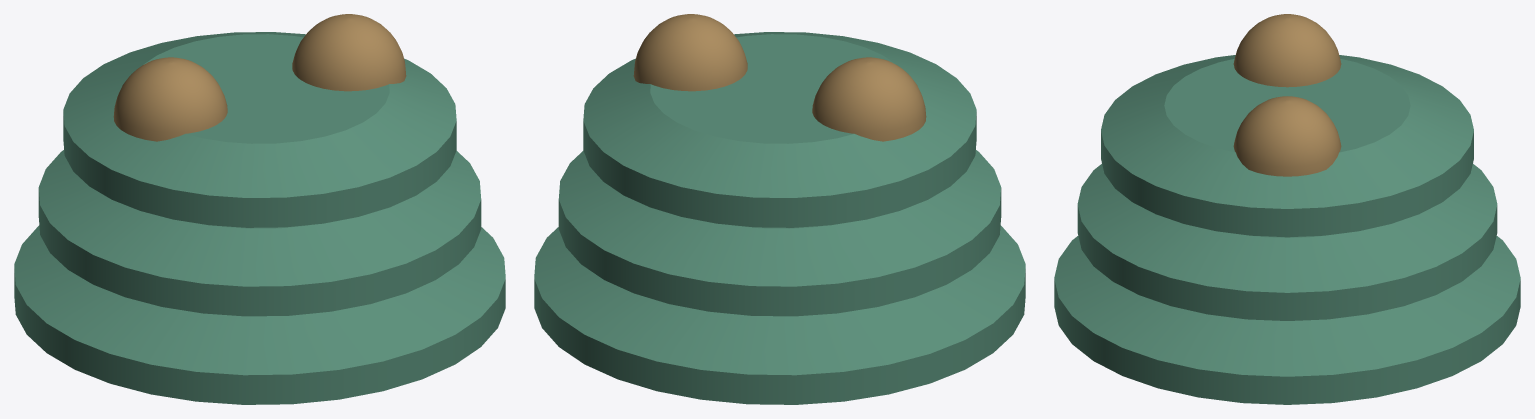
3 renders of one model, left to right at view 1: azimuth 30°, elevation 25°; view 2: azimuth 150°, elevation 25°; view 3: azimuth 270°, elevation 25°, orthographic. The views are drawn at different scales.
Parts seen in each view (by area): view 1: Terraced oval hull.002, Terraced oval hull, Terraced oval hull.001, Saucer roof auxiliary pod.001, Saucer roof auxiliary pod; view 2: Terraced oval hull.002, Terraced oval hull, Terraced oval hull.001, Saucer roof auxiliary pod.001, Saucer roof auxiliary pod; view 3: Terraced oval hull.002, Terraced oval hull, Terraced oval hull.001, Saucer roof auxiliary pod, Saucer roof auxiliary pod.001.
Boxes of the visible parts, x1=… form: Terraced oval hull.002: x1=63, y1=32, x2=456, y2=227; Terraced oval hull: x1=14, y1=225, x2=505, y2=404; Terraced oval hull.001: x1=38, y1=150, x2=481, y2=316; Saucer roof auxiliary pod.001: x1=113, y1=57, x2=227, y2=141; Saucer roof auxiliary pod: x1=292, y1=14, x2=406, y2=91; Terraced oval hull.002: x1=583, y1=32, x2=976, y2=227; Terraced oval hull: x1=534, y1=225, x2=1025, y2=404; Terraced oval hull.001: x1=558, y1=150, x2=1001, y2=316; Saucer roof auxiliary pod.001: x1=812, y1=57, x2=926, y2=141; Saucer roof auxiliary pod: x1=633, y1=14, x2=747, y2=91; Terraced oval hull.002: x1=1101, y1=55, x2=1473, y2=237; Terraced oval hull: x1=1054, y1=236, x2=1520, y2=404; Terraced oval hull.001: x1=1077, y1=164, x2=1497, y2=320; Saucer roof auxiliary pod: x1=1233, y1=96, x2=1341, y2=176; Saucer roof auxiliary pod.001: x1=1233, y1=14, x2=1341, y2=87.
Bounding box in the file's own units: 2.4 × 1.5 × 2.4.
